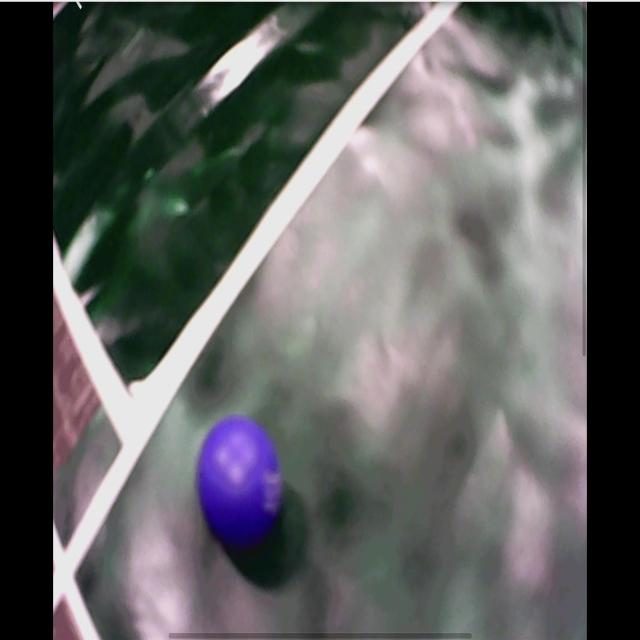ball: (197, 415, 284, 545)
